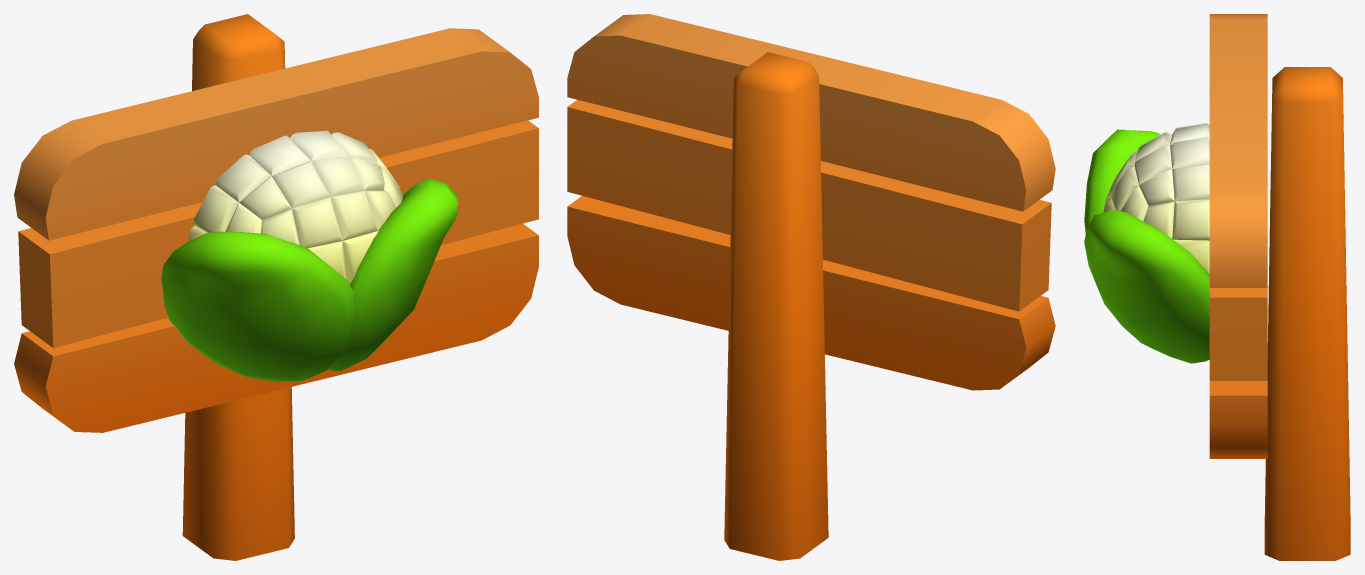
Rendered from Farm_Crop_Sign_Cauliflower_01.glb.
The picture shows the model from 3 angles, left to right: view 1: azimuth 30°, elevation 25°; view 2: azimuth 150°, elevation 25°; view 3: azimuth 270°, elevation 25°; orthographic projection. The views are drawn at different scales.
Visible parts, largest first — view 1: Farm_Crop_Sign_Cauliflower_01; view 2: Farm_Crop_Sign_Cauliflower_01; view 3: Farm_Crop_Sign_Cauliflower_01.
Part boxes in pixels (x1,y1,x2,y2): Farm_Crop_Sign_Cauliflower_01: (14,14,538,560); Farm_Crop_Sign_Cauliflower_01: (567,14,1055,560); Farm_Crop_Sign_Cauliflower_01: (1084,14,1350,560).
Bounding box in the file's own units: 0.9011 × 0.888 × 0.4602.
1 material, 1 textured.
